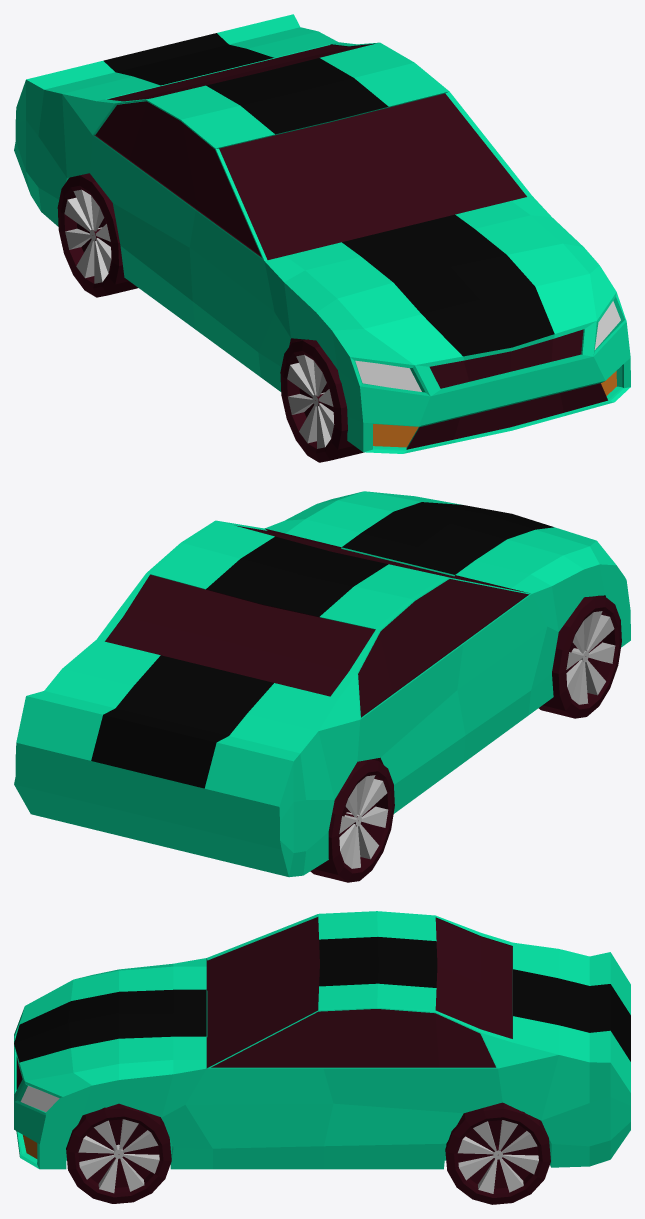
File: AI CAR1.fbx
3 renders of one model, top to bottom at view 1: azimuth 30°, elevation 25°; view 2: azimuth 150°, elevation 25°; view 3: azimuth 270°, elevation 25°, orthographic. The views are drawn at different scales.
Parts seen in each view (by area): view 1: Cube, Cube.001, Cube.002; view 2: Cube, Cube.001, Cube.002; view 3: Cube, Cube.003, Cube.004.
Boxes of the visible parts, x1,y1,x2,y2 form: Cube: [14, 14, 630, 453]; Cube.001: [280, 339, 364, 462]; Cube.002: [57, 173, 137, 297]; Cube: [14, 491, 630, 877]; Cube.001: [538, 595, 621, 718]; Cube.002: [310, 759, 394, 882]; Cube: [14, 911, 630, 1169]; Cube.003: [445, 1102, 550, 1204]; Cube.004: [66, 1103, 171, 1203].
Size of the model in its own units: 197 by 435 by 145.
